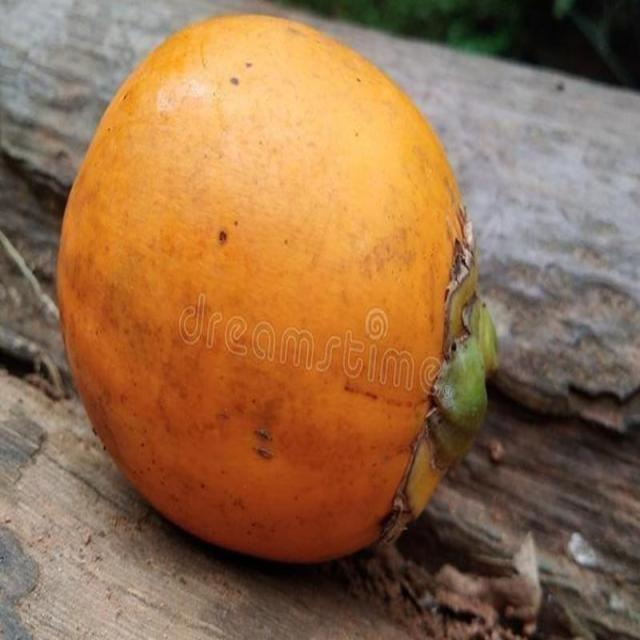good: (55, 12, 497, 569)
